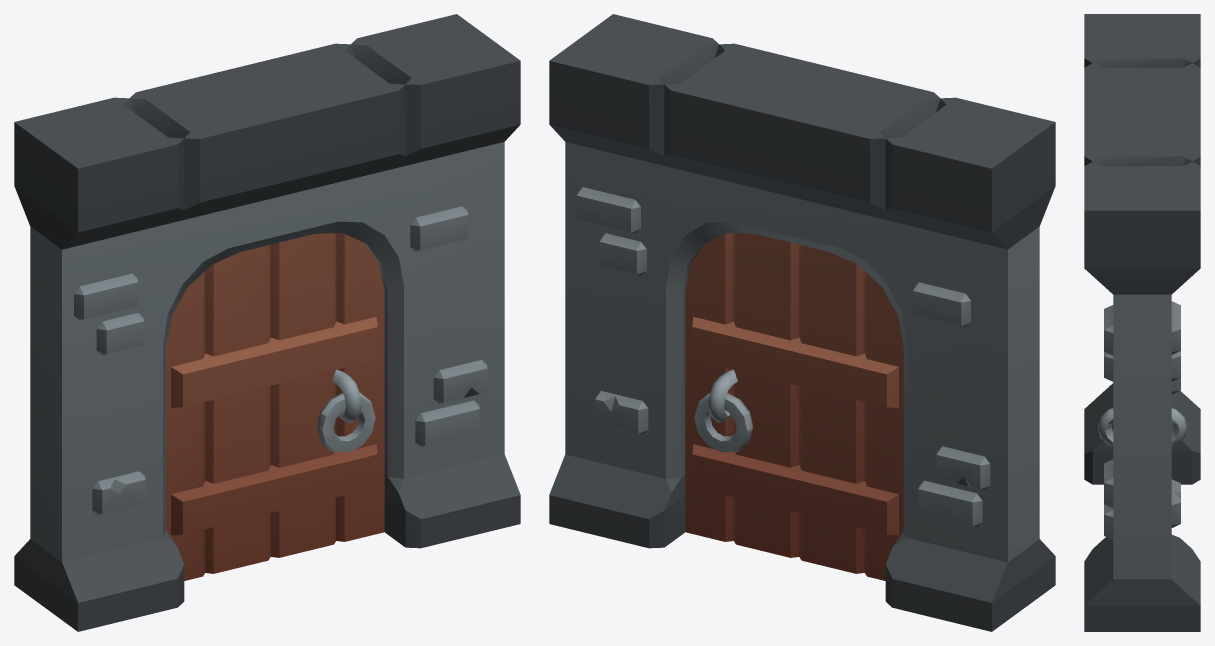
The model's file is fw_door_oak_iron.glb.
The picture shows the model from 3 angles, left to right: view 1: azimuth 30°, elevation 25°; view 2: azimuth 150°, elevation 25°; view 3: azimuth 270°, elevation 25°; orthographic projection. The views are drawn at different scales.
Visible parts, largest first — view 1: body; view 2: body; view 3: body.
Boxes of the visible parts, <box> form: body: <box>14,14,520,631</box>; body: <box>549,14,1055,631</box>; body: <box>1084,14,1200,631</box>.
Size of the model in its own units: 2.6 by 2.6 by 0.65.
